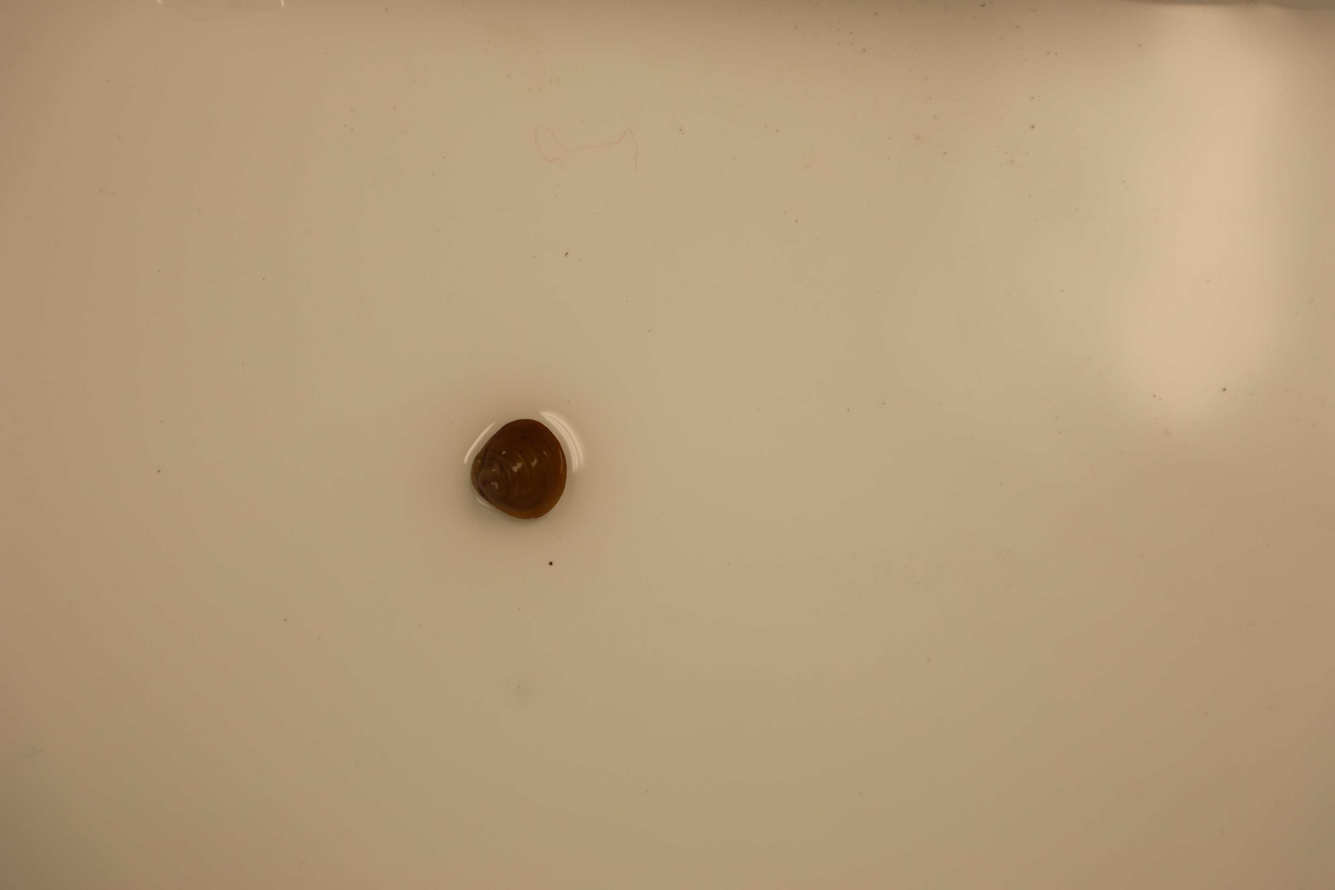Other: (462, 419, 571, 523)
